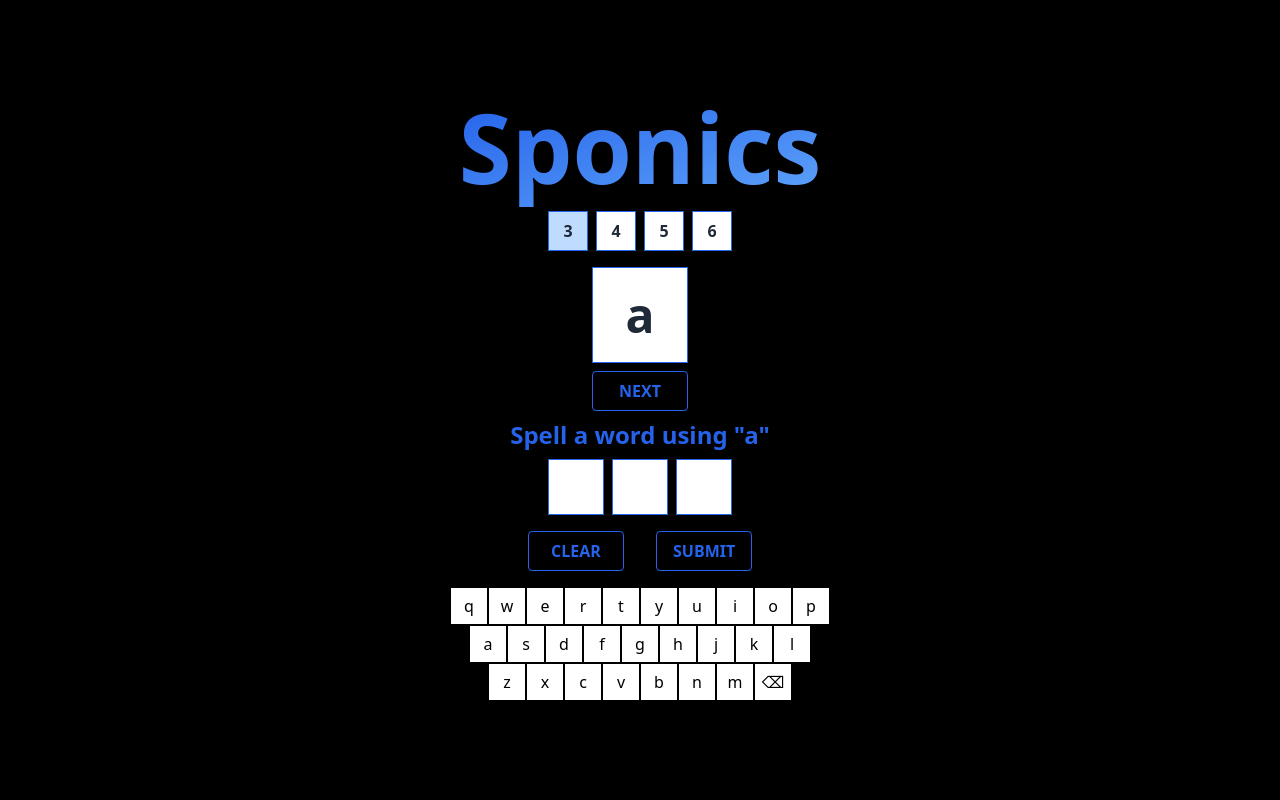
Scenario: User types guess › Results shows a too short when word is less than word length
Check: the text with test id "sound" reads "a", box x1=592 y1=267 x2=688 y2=363
Click the button with test id "wordLength4". click: [616, 231]
box: x1=596 y1=211 x2=636 y2=251
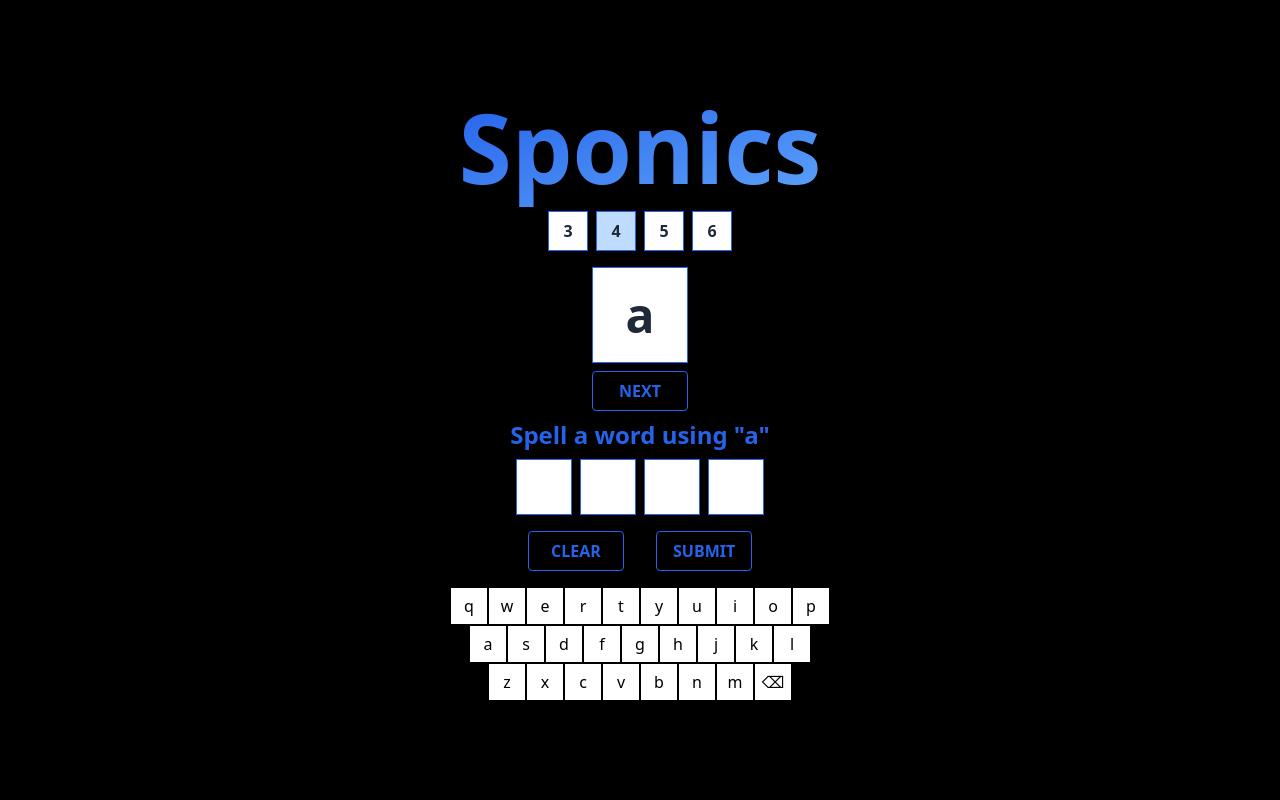
Press t in the element with test id "mainContainer"
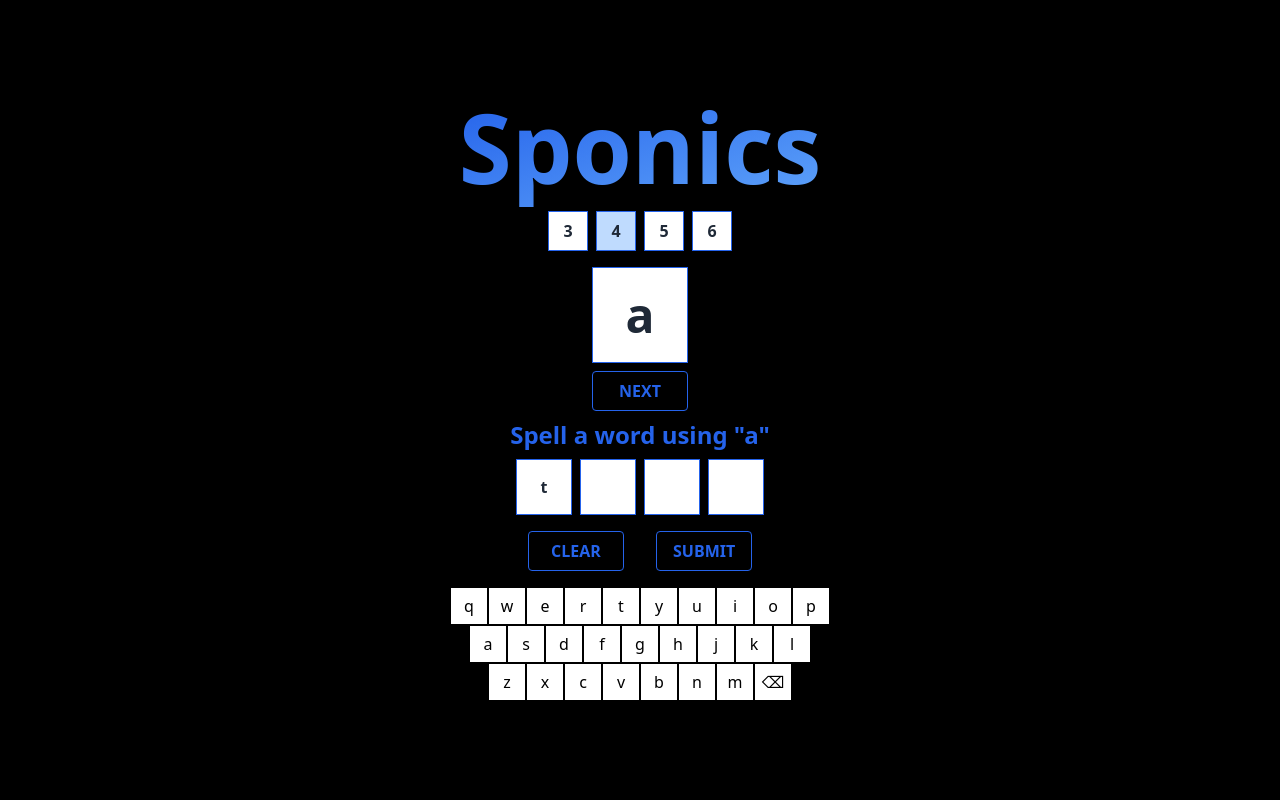
Press a in the element with test id "mainContainer"
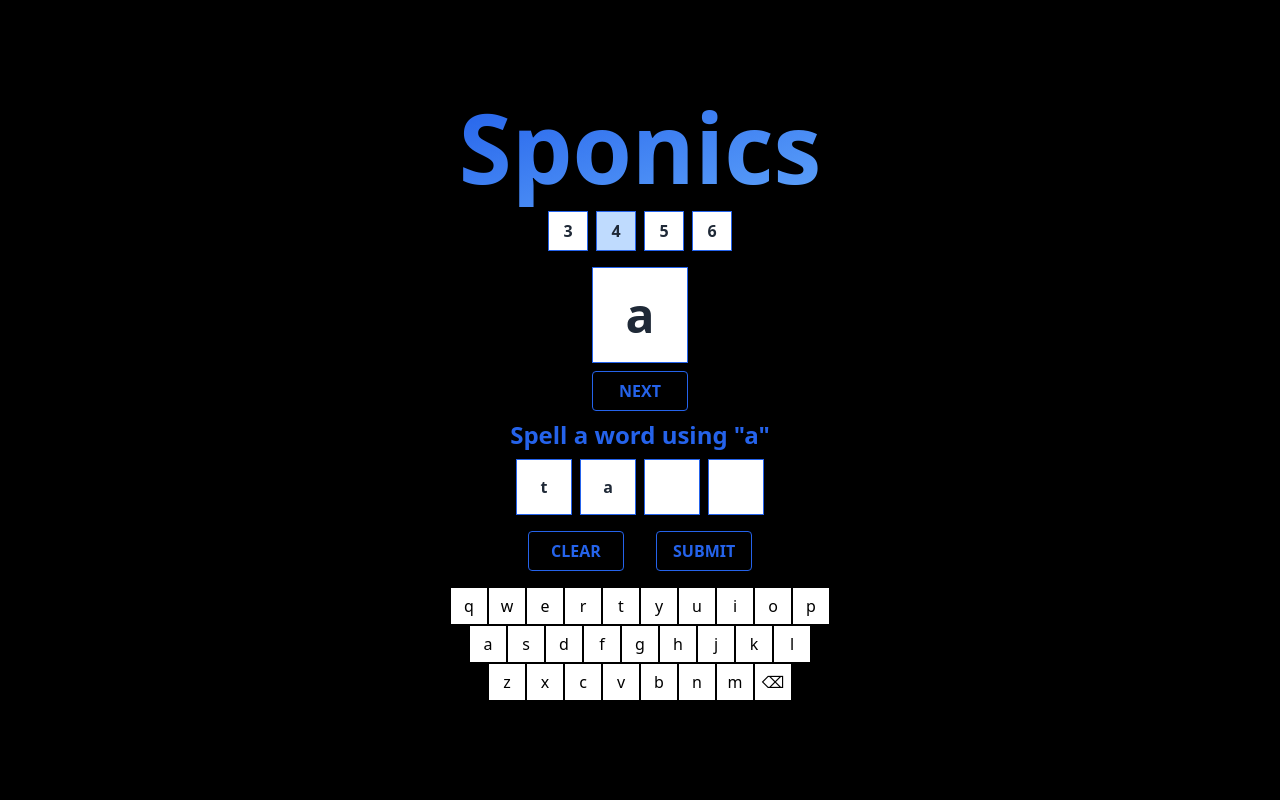
Press n in the element with test id "mainContainer"
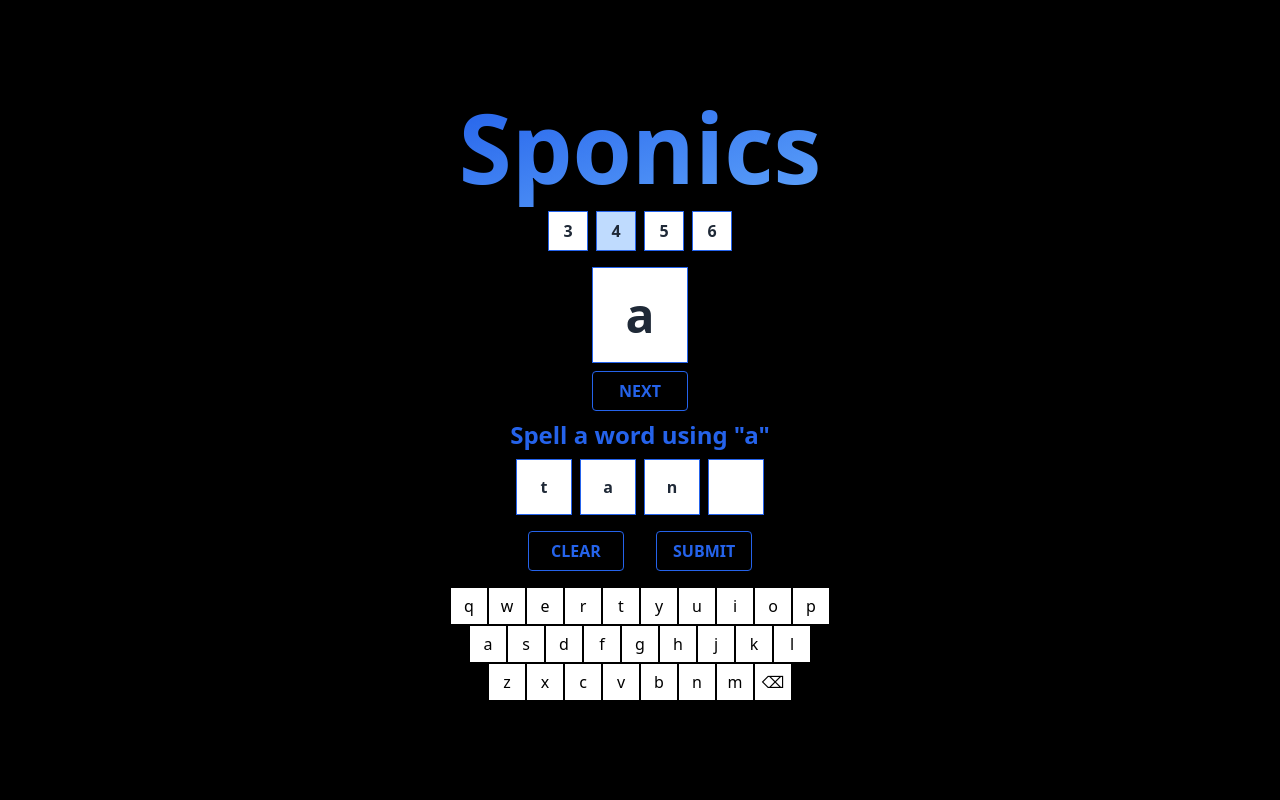
Click the button with test id "submitButton". click: [704, 551]
box: x1=656 y1=531 x2=752 y2=571
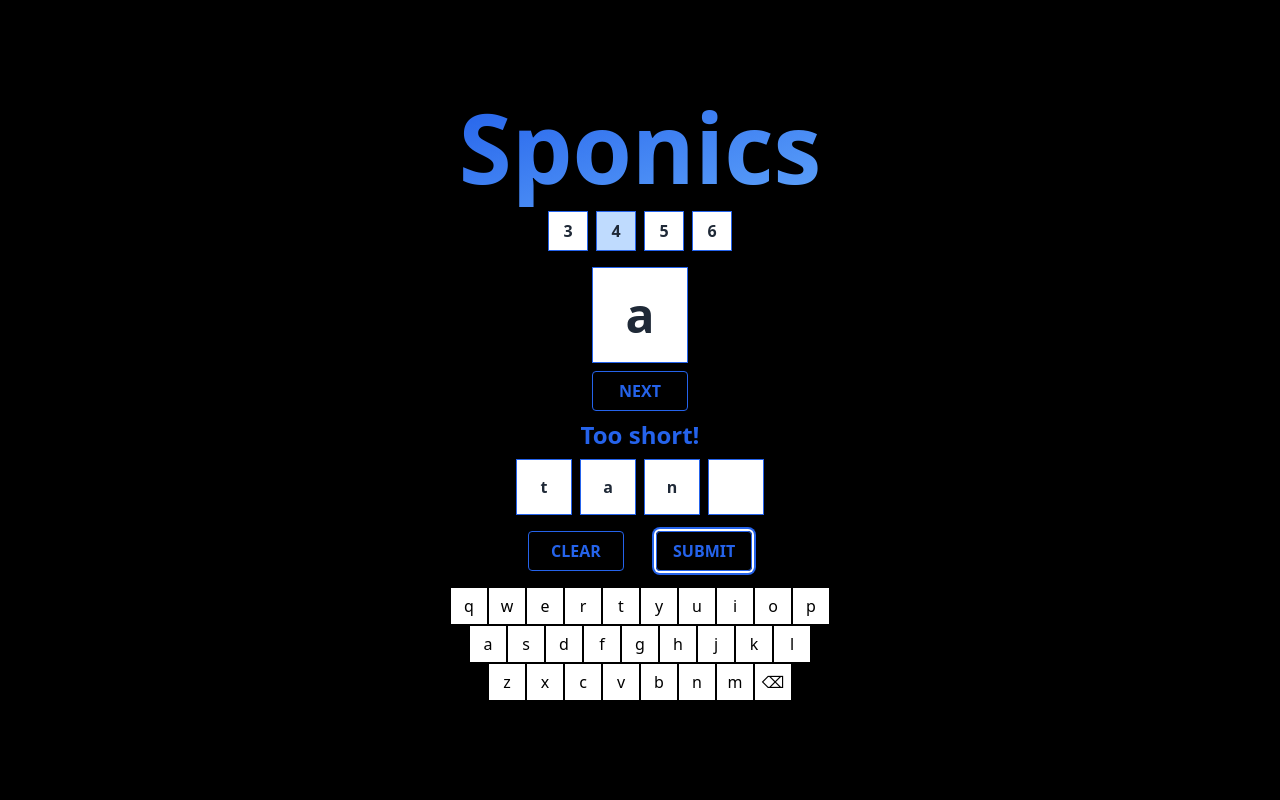
Check: the heading with test id "resultMessage" reads "Too short!", box x1=581 y1=419 x2=700 y2=451
